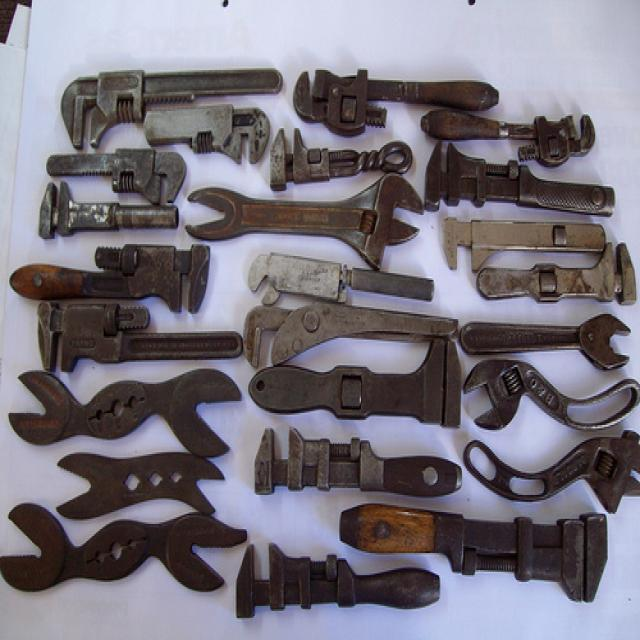wrench: (303, 173, 428, 274)
